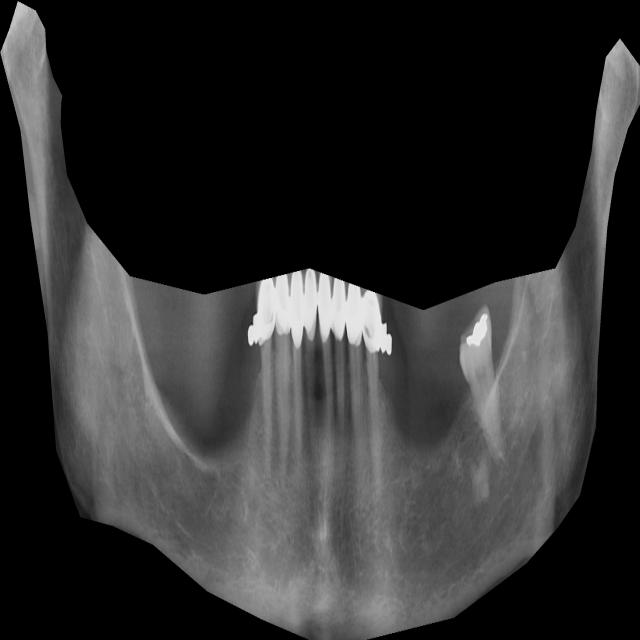mandibula: (0, 1, 640, 640)
